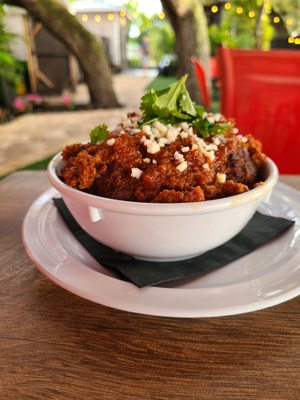sushi: (47, 123, 278, 262)
